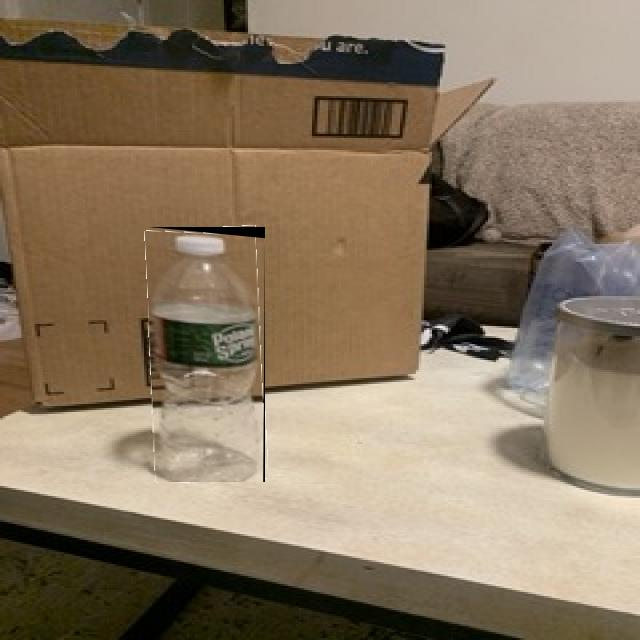water_bottle: (148, 227, 265, 482)
